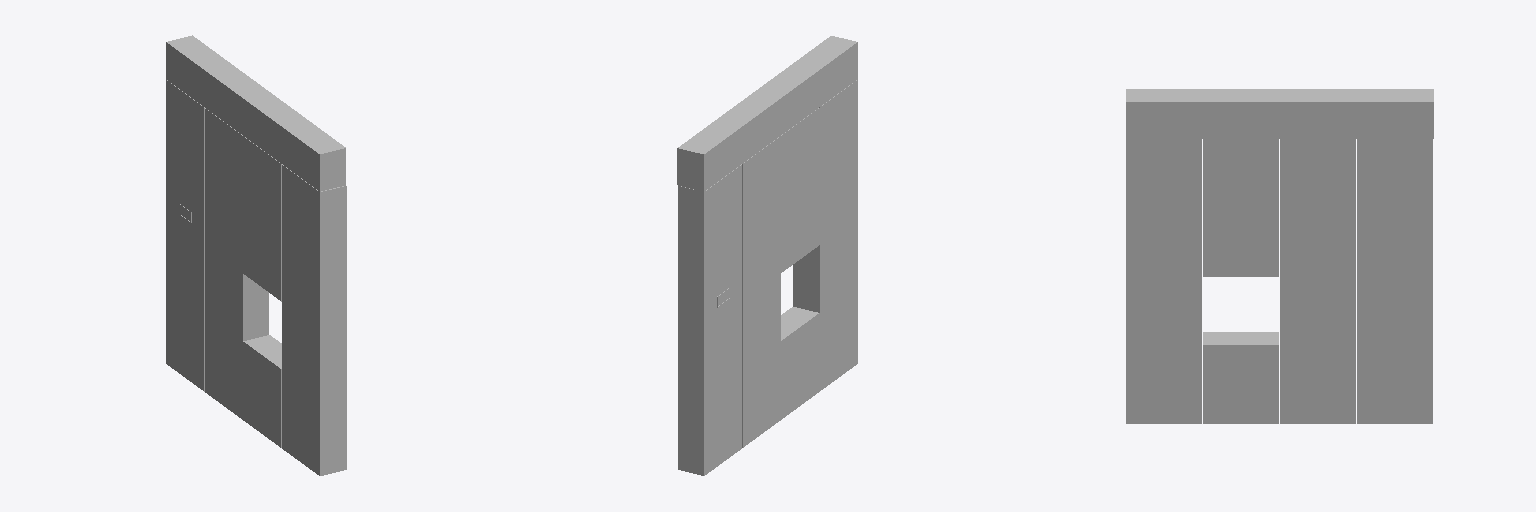
The model's file is cabinets.obj.
The picture shows the model from 3 angles: view 1: azimuth 30°, elevation 25°; view 2: azimuth 150°, elevation 25°; view 3: azimuth 270°, elevation 25°; orthographic projection.
Visible parts, largest first — view 1: Cabinets; view 2: Cabinets; view 3: Cabinets.
Part boxes in pixels (x1,y1,x2,y2): Cabinets: (166,35,346,475); Cabinets: (677,36,857,475); Cabinets: (1126,89,1433,423).
Bounding box in the file's own units: 0.4189 × 4.75 × 4.12.